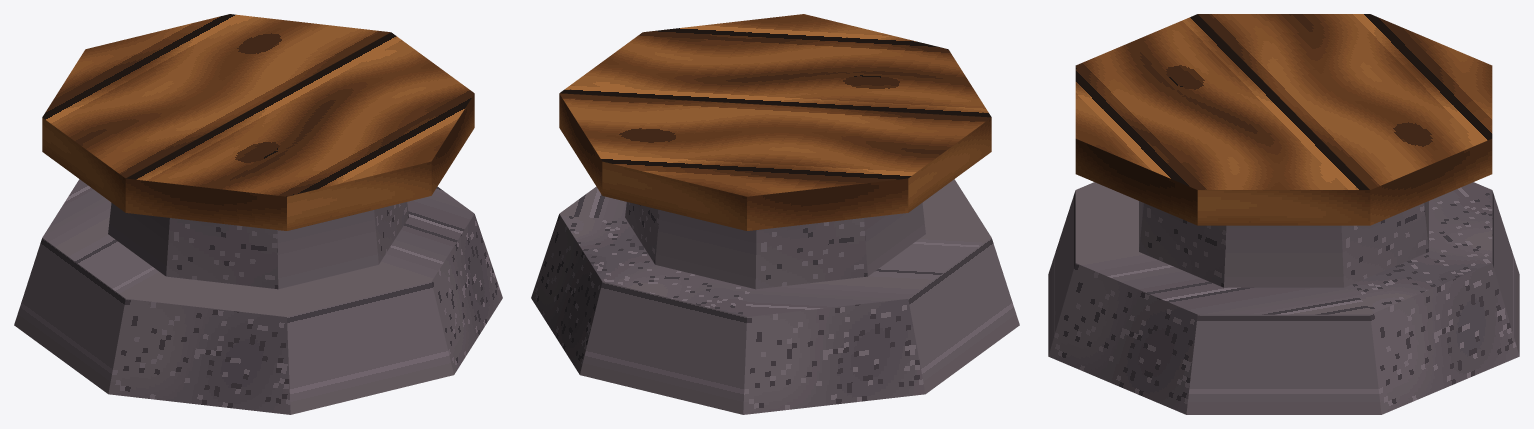
The model's file is plinth.glb.
3 views of the same model, side by side, from view 1: azimuth 30°, elevation 25°; view 2: azimuth 150°, elevation 25°; view 3: azimuth 270°, elevation 25° (orthographic). The views are drawn at different scales.
Parts seen in each view (by area): view 1: Plinth; view 2: Plinth; view 3: Plinth.
Part boxes in pixels (x1=…): Plinth: x1=14, y1=14, x2=502, y2=414; Plinth: x1=531, y1=14, x2=1019, y2=414; Plinth: x1=1048, y1=14, x2=1519, y2=414.
Size of the model in its own units: 0.2402 by 0.12 by 0.2402.
2 materials, 2 textured.
